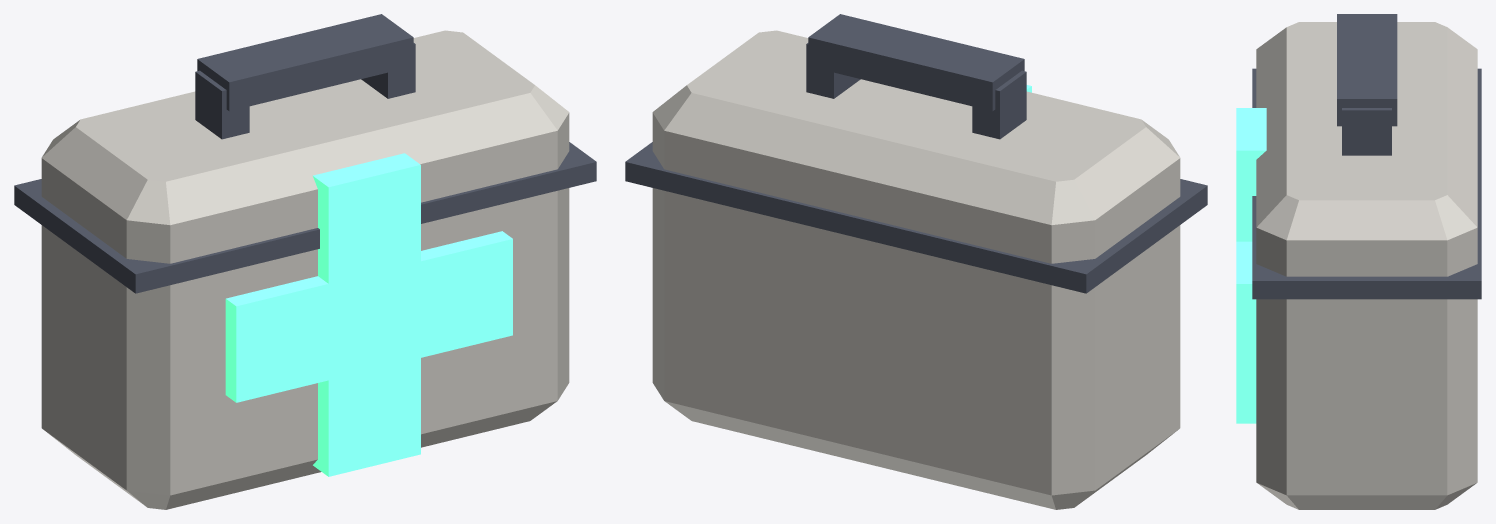
The model's file is field-medkit.glb.
3 views of the same model, side by side, from view 1: azimuth 30°, elevation 25°; view 2: azimuth 150°, elevation 25°; view 3: azimuth 270°, elevation 25° (orthographic). The views are drawn at different scales.
Visible parts, largest first — view 1: Medkit case, Medkit cross, Medkit trim; view 2: Medkit case, Medkit trim; view 3: Medkit case, Medkit trim, Medkit cross.
Boxes of the visible parts, x1,y1,x2,y2 form: Medkit case: (41, 30, 569, 509); Medkit cross: (225, 153, 512, 476); Medkit trim: (14, 14, 596, 293); Medkit case: (652, 30, 1180, 509); Medkit trim: (625, 14, 1207, 293); Medkit case: (1256, 22, 1477, 509); Medkit trim: (1252, 14, 1481, 299); Medkit cross: (1236, 108, 1266, 423).
Size of the model in its own units: 0.5 by 0.4 by 0.244.
